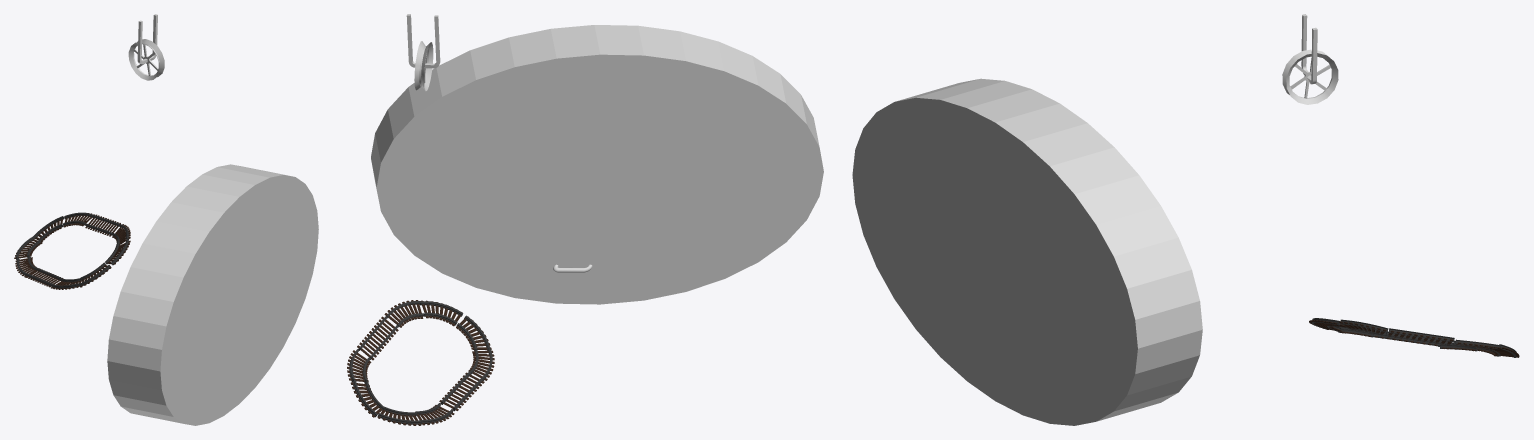
The model's file is trainDoor2.fbx.
The picture shows the model from 3 angles, left to right: view 1: azimuth 30°, elevation 25°; view 2: azimuth 150°, elevation 25°; view 3: azimuth 270°, elevation 25°; orthographic projection. The views are drawn at different scales.
Visible parts, largest first — view 1: door, Circle.001, Railroad14, polea, Railroad14.001, Railroad2.006, Railroad2.007, Railroad2.005, Railroad2.002, Railroad2.004, Railroad2.001; view 2: door, Railroad14.001, Railroad14, Circle.001, Railroad2, Railroad2.001, Railroad2.002, Railroad2.006, Railroad2.003, polea, Railroad2.007, Railroad2.005 (+1 smaller); view 3: door, Circle.001, polea.
Part boxes in pixels (x1,y1,x2,y2): door: (107,164,318,425); Circle.001: (128,39,164,80); Railroad14: (84,214,120,236); polea: (137,14,157,64); Railroad14.001: (25,267,63,287); Railroad2.006: (33,216,64,242); Railroad2.007: (62,212,94,227); Railroad2.005: (14,236,42,259); Railroad2.002: (78,262,111,287); Railroad2.004: (15,255,36,277); Railroad2.001: (105,239,130,265); door: (371,25,823,304); Railroad14.001: (439,371,484,411); Railroad14: (357,316,398,360); Circle.001: (414,41,433,91); Railroad2: (384,300,424,327); Railroad2.001: (420,300,463,326); Railroad2.002: (456,315,491,350); Railroad2.006: (350,379,384,417); Railroad2.003: (468,348,494,380); polea: (406,14,440,68); Railroad2.007: (347,349,371,382); Railroad2.005: (377,406,422,425); door: (852,78,1202,425); Circle.001: (1282,49,1338,104); polea: (1301,14,1317,84).
Bounding box in the file's own units: 1185 × 1137 × 1733.
